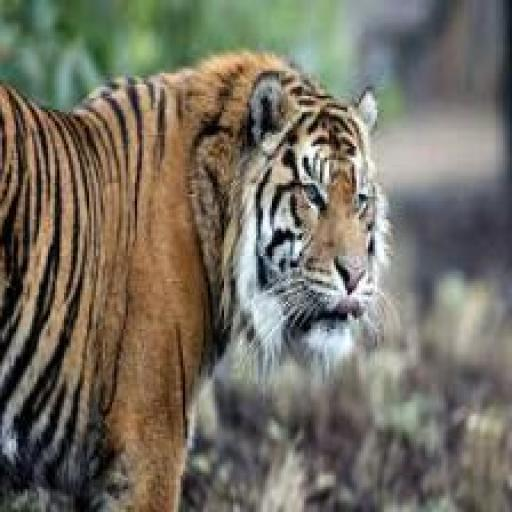Tiger: (0, 52, 388, 511)
